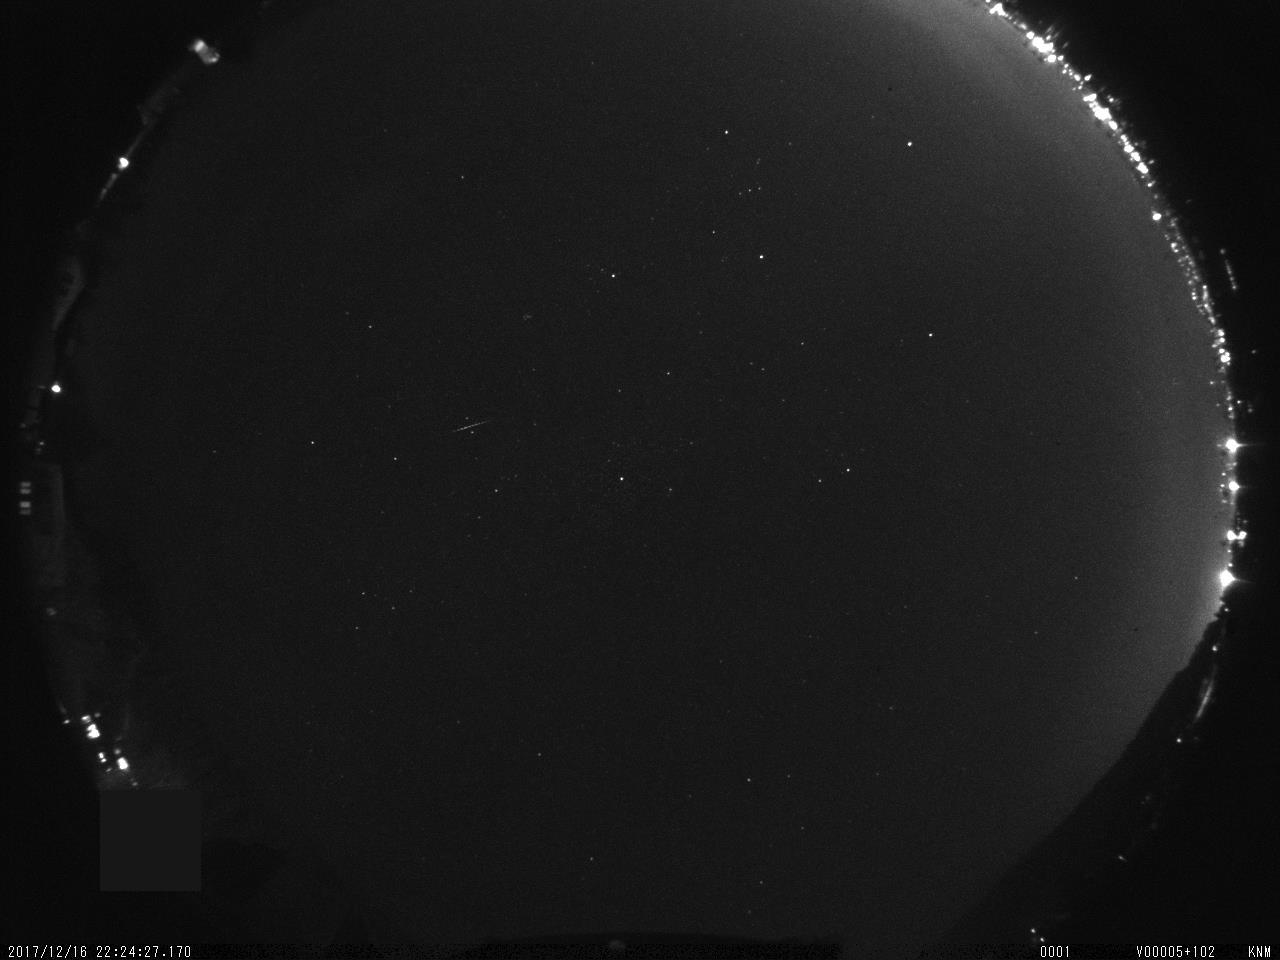meteor: (438, 409, 499, 456)
